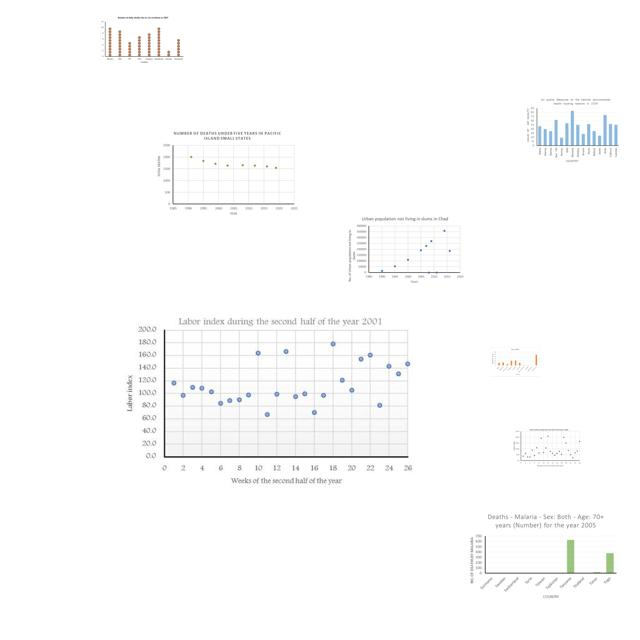Graph: (125, 313, 415, 487), (466, 511, 620, 604), (154, 128, 301, 220), (344, 214, 465, 285), (524, 96, 621, 165), (100, 15, 185, 66), (513, 428, 581, 467), (490, 347, 540, 377)
